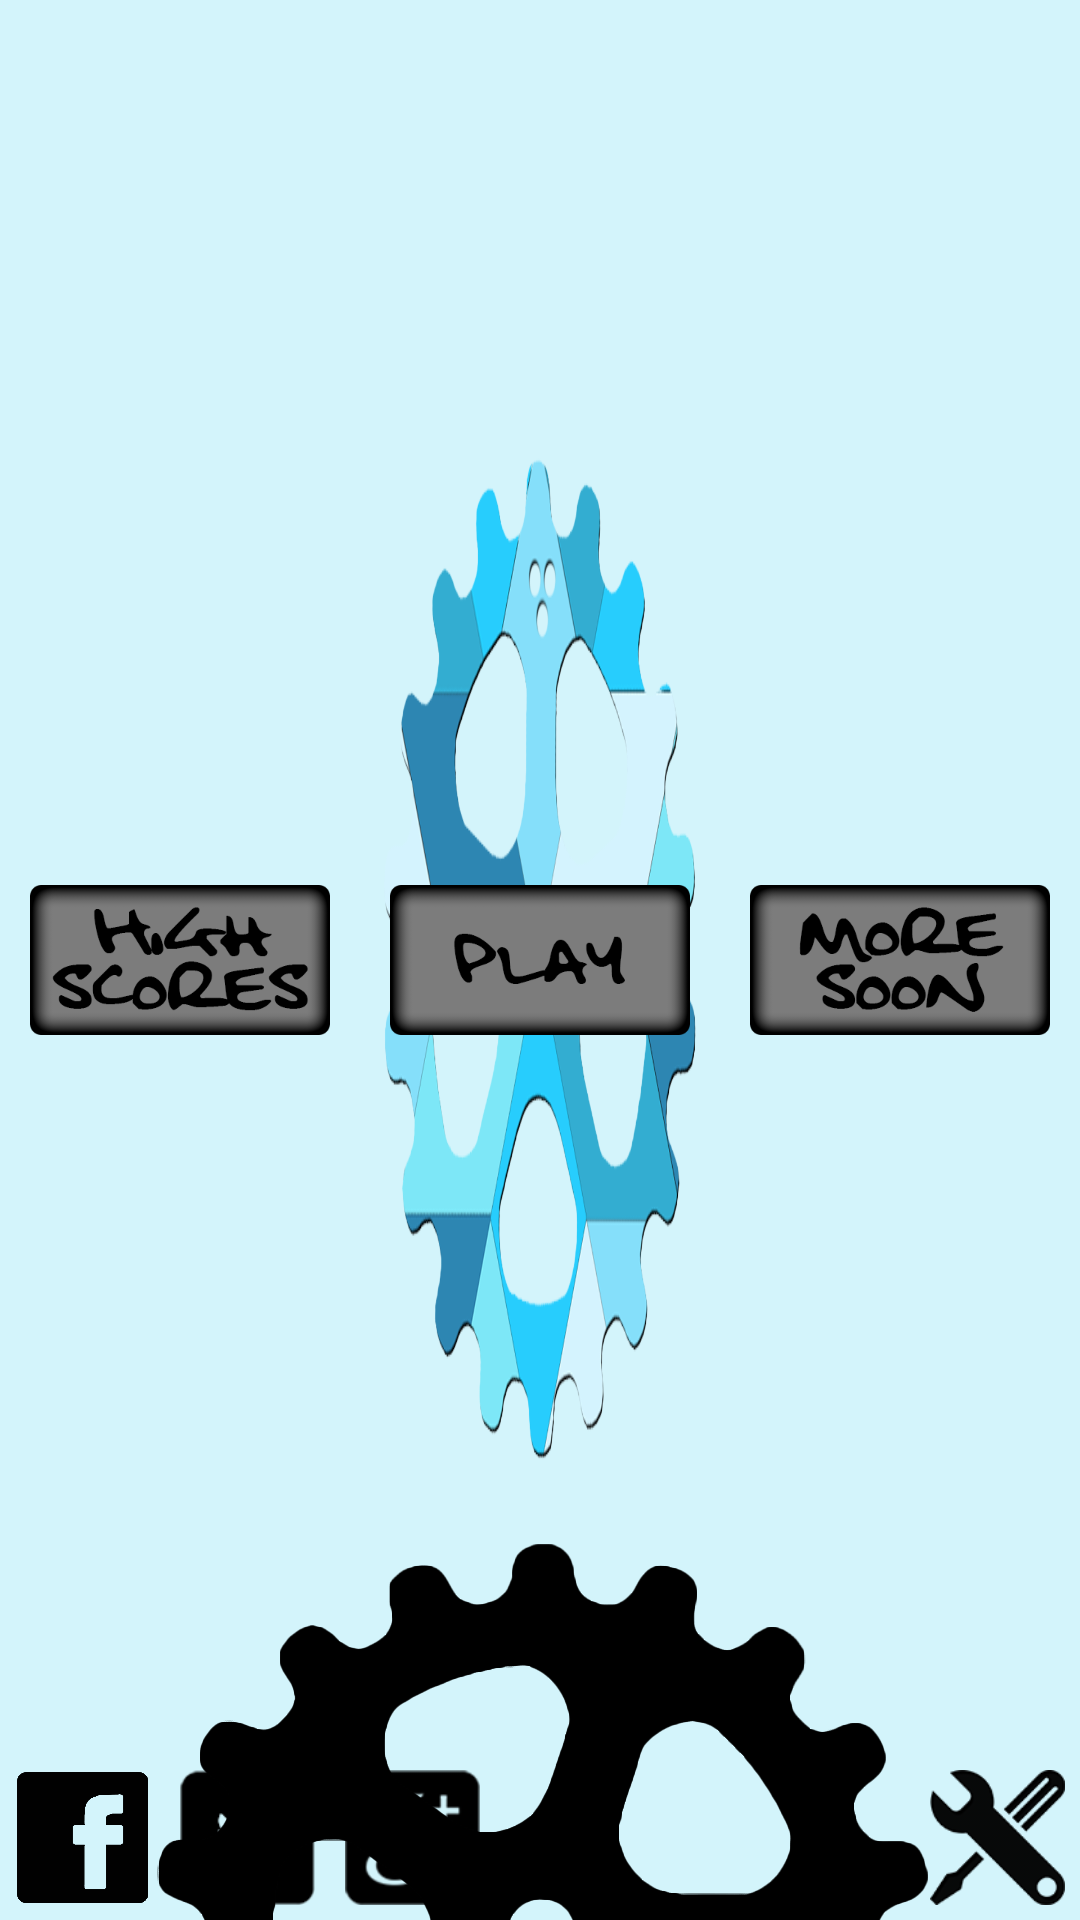

Named icons in this screenshot (1080*1920) and their bounding boxes, (x1, y1, x2, y2):
settings: (930, 1770, 1065, 1905)
